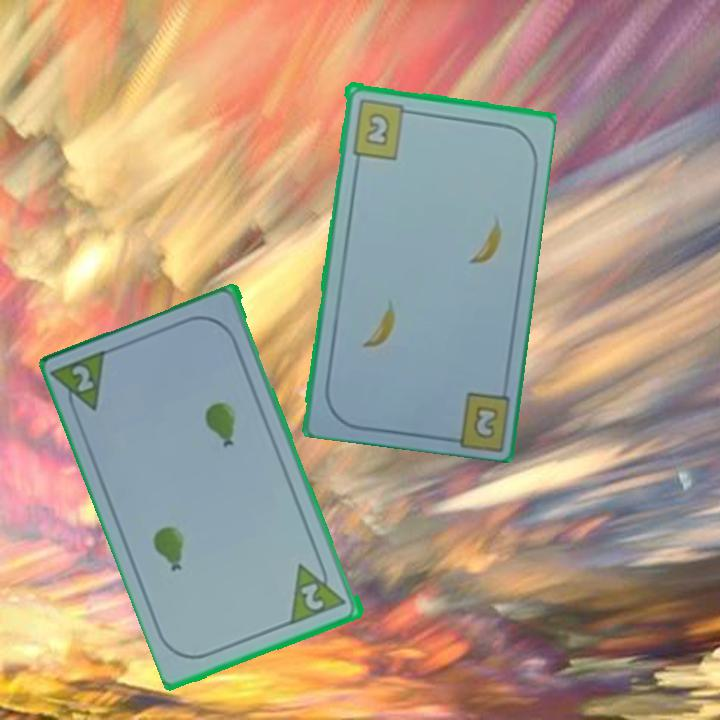2b: (348, 95, 416, 161), (472, 405, 498, 438)
2p: (298, 579, 328, 614), (68, 362, 98, 396)
